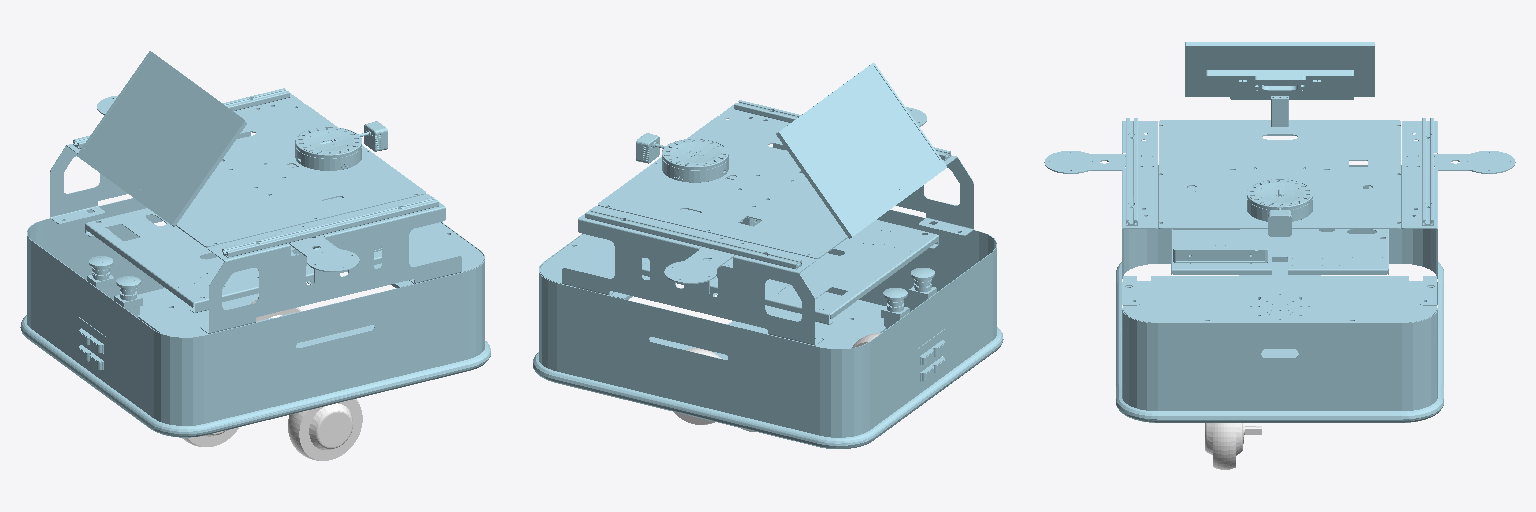
robot.urdf — lucsys_lse550_4wd:
<?xml version="1.0" encoding="utf-8"?>
<robot name="lucsys_lse550_4wd">
  <link name="base_link">
    <inertial>
      <origin xyz="-0.0128421829279015 -0.0198593937870083 0.00472064301055347" rpy="0 0 0" />
      <mass value="0.619760484843179" />
      <inertia ixx="0.00049908549476667" ixy="-1.7170206624065E-06" ixz="-4.24523881219841E-07" iyy="0.000746458274197243" iyz="-7.41976515459759E-07" izz="0.00114198658204837" />
    </inertial>
    <visual>
      <origin xyz="0 0 0" rpy="0 0 0" />
      <geometry>
        <mesh filename="package://lucsys_lse550_description/meshes/lse550_4wd/base_link.STL" />
      </geometry>
      <material name="lucsys_material_0">
        <color rgba="0.741176470588235 0.901960784313726 0.956862745098039 1" />
      </material>
    </visual>
    <collision>
      <origin xyz="0 0 0" rpy="0 0 0" />
      <geometry>
        <mesh filename="package://lucsys_lse550_description/meshes/lse550_4wd/base_link.STL" />
      </geometry>
    </collision>
  </link>
  <link name="lf_wheel_link">
    <inertial>
      <origin xyz="-1.27712550672052E-07 -0.000325096094343197 2.97668804279116E-07" rpy="0 0 0" />
      <mass value="0.0420381277202372" />
      <inertia ixx="1.72190960888397E-05" ixy="2.03639273675061E-09" ixz="2.4149299899044E-09" iyy="2.97212421151102E-05" iyz="-2.15428671658865E-11" izz="1.72364765737453E-05" />
    </inertial>
    <visual>
      <origin xyz="0 0 0" rpy="0 0 0" />
      <geometry>
        <mesh filename="package://lucsys_lse550_description/meshes/lse550_4wd/lf_wheel_link.STL" />
      </geometry>
      <material name="lucsys_material_1">
        <color rgba="1 1 1 1" />
      </material>
    </visual>
    <collision>
      <origin xyz="0 0 0" rpy="0 0 0" />
      <geometry>
        <mesh filename="package://lucsys_lse550_description/meshes/lse550_4wd/lf_wheel_link.STL" />
      </geometry>
    </collision>
  </link>
  <joint name="lf_wheel_joint" type="continuous">
    <origin xyz="0.0788866867829701 0.090902092708038 -0.0363" rpy="0 0 0" />
    <parent link="base_link" />
    <child link="lf_wheel_link" />
    <axis xyz="0 1 0" />
  </joint>
  <link name="lb_wheel_link">
    <inertial>
      <origin xyz="-1.28150099226731E-07 -0.000325096043508583 2.97625719625216E-07" rpy="0 0 0" />
      <mass value="0.0420381286687321" />
      <inertia ixx="1.72190959347134E-05" ixy="2.03643074352543E-09" ixz="2.41484184900578E-09" iyy="2.97212425394595E-05" iyz="-2.15391461481771E-11" izz="1.72364771579999E-05" />
    </inertial>
    <visual>
      <origin xyz="0 0 0" rpy="0 0 0" />
      <geometry>
        <mesh filename="package://lucsys_lse550_description/meshes/lse550_4wd/lb_wheel_link.STL" />
      </geometry>
      <material name="lucsys_material_2">
        <color rgba="1 1 1 1" />
      </material>
    </visual>
    <collision>
      <origin xyz="0 0 0" rpy="0 0 0" />
      <geometry>
        <mesh filename="package://lucsys_lse550_description/meshes/lse550_4wd/lb_wheel_link.STL" />
      </geometry>
    </collision>
  </link>
  <joint name="lb_wheel_joint" type="continuous">
    <origin xyz="-0.0930133132170299 0.0909020927080386 -0.0363" rpy="0 0 0" />
    <parent link="base_link" />
    <child link="lb_wheel_link" />
    <axis xyz="0 1 0" />
  </joint>
  <link name="rb_wheel_link">
    <inertial>
      <origin xyz="1.28149403894051E-07 0.000325096047440132 2.97624308309707E-07" rpy="0 0 0" />
      <mass value="0.0420381286421594" />
      <inertia ixx="1.72190962340715E-05" ixy="2.03640106869117E-09" ixz="-2.41477994262437E-09" iyy="2.97212428073701E-05" iyz="2.15356782895359E-11" izz="1.72364771452533E-05" />
    </inertial>
    <visual>
      <origin xyz="0 0 0" rpy="0 0 0" />
      <geometry>
        <mesh filename="package://lucsys_lse550_description/meshes/lse550_4wd/rb_wheel_link.STL" />
      </geometry>
      <material name="lucsys_material_3">
        <color rgba="1 1 1 1" />
      </material>
    </visual>
    <collision>
      <origin xyz="0 0 0" rpy="0 0 0" />
      <geometry>
        <mesh filename="package://lucsys_lse550_description/meshes/lse550_4wd/rb_wheel_link.STL" />
      </geometry>
    </collision>
  </link>
  <joint name="rb_wheel_joint" type="continuous">
    <origin xyz="-0.0930053132170305 -0.0907239072919614 -0.0363" rpy="0 0 0" />
    <parent link="base_link" />
    <child link="rb_wheel_link" />
    <axis xyz="0 1 0" />
  </joint>
  <link name="rf_wheel_link">
    <inertial>
      <origin xyz="1.27697581011558E-07 0.000325096090387209 2.97695706086287E-07" rpy="0 0 0" />
      <mass value="0.0420381277503723" />
      <inertia ixx="1.7219096206293E-05" ixy="2.03637766318229E-09" ixz="-2.41488182670862E-09" iyy="2.97212422221003E-05" iyz="2.153998885685E-11" izz="1.72364765727325E-05" />
    </inertial>
    <visual>
      <origin xyz="0 0 0" rpy="0 0 0" />
      <geometry>
        <mesh filename="package://lucsys_lse550_description/meshes/lse550_4wd/rf_wheel_link.STL" />
      </geometry>
      <material name="lucsys_material_4">
        <color rgba="1 1 1 1" />
      </material>
    </visual>
    <collision>
      <origin xyz="0 0 0" rpy="0 0 0" />
      <geometry>
        <mesh filename="package://lucsys_lse550_description/meshes/lse550_4wd/rf_wheel_link.STL" />
      </geometry>
    </collision>
  </link>
  <joint name="rf_wheel_joint" type="continuous">
    <origin xyz="0.0788946867829695 -0.090723907291962 -0.0363" rpy="0 0 0" />
    <parent link="base_link" />
    <child link="rf_wheel_link" />
    <axis xyz="0 1 0" />
  </joint>
  <link name="laser_link">
    <inertial>
      <origin xyz="0.00196458631046099 -3.57895428399795E-06 0.00189816836722938" rpy="0 0 0" />
      <mass value="0.0477519163775583" />
      <inertia ixx="3.38461999766101E-05" ixy="-2.19897141950282E-09" ixz="1.07118468648131E-06" iyy="3.94150415881323E-05" iyz="6.83978165807776E-10" izz="5.60787042136426E-05" />
    </inertial>
    <visual>
      <origin xyz="0 0 0" rpy="0 0 0" />
      <geometry>
        <mesh filename="package://lucsys_lse550_description/meshes/lse550_4wd/laser.STL" />
      </geometry>
      <material name="lucsys_material_5">
        <color rgba="0.376470588235294 0.376470588235294 0.376470588235294 1" />
      </material>
    </visual>
    <collision>
      <origin xyz="0 0 0" rpy="0 0 0" />
      <geometry>
        <mesh filename="package://lucsys_lse550_description/meshes/lse550_4wd/laser.STL" />
      </geometry>
    </collision>
  </link>
  <joint name="laser_joint" type="fixed">
    <origin xyz="0.0316310367407428 9.05810809801877E-05 0.09292418374143" rpy="0 0 3.14159265358979" />
    <parent link="base_link" />
    <child link="laser_link" />
    <axis xyz="0 0 0" />
  </joint>
  <link name="controller_link">
    <inertial>
      <origin xyz="-0.0178772421800459 0.0389174701067245 0.0213653101693057" rpy="0 0 0" />
      <mass value="0.0391683061674007" />
      <inertia ixx="2.20183096868336E-05" ixy="1.2570811872774E-06" ixz="1.53420711428651E-09" iyy="2.40630534171015E-05" iyz="2.27786586281681E-07" izz="4.51084285172614E-05" />
    </inertial>
    <visual>
      <origin xyz="0 0 0" rpy="0 0 0" />
      <geometry>
        <mesh filename="package://lucsys_lse550_description/meshes/lse550_4wd/controller_link.STL" />
      </geometry>
      <material name="lucsys_material_6">
        <color rgba="1 1 1 1" />
      </material>
    </visual>
    <collision>
      <origin xyz="0 0 0" rpy="0 0 0" />
      <geometry>
        <mesh filename="package://lucsys_lse550_description/meshes/lse550_4wd/controller_link.STL" />
      </geometry>
    </collision>
  </link>
  <joint name="controller_joint" type="fixed">
    <origin xyz="-0.0556343132168706 -0.0407821141826353 0.0519999999999999" rpy="0 0 0" />
    <parent link="base_link" />
    <child link="controller_link" />
    <axis xyz="0 0 0" />
  </joint>
  <link name="camera_link">
    <inertial>
      <origin xyz="3.50190324967248E-07 9.10362268407238E-08 1.07624234177428E-07" rpy="0 0 0" />
      <mass value="0.0559842512080236" />
      <inertia ixx="0.000130810959339227" ixy="1.20255128206473E-07" ixz="1.62335437080084E-06" iyy="1.91148634967935E-05" iyz="-2.80016755793737E-08" izz="0.000131387469523042" />
    </inertial>
    <visual>
      <origin xyz="0 0 0" rpy="0 0 0" />
      <geometry>
        <mesh filename="package://lucsys_lse550_description/meshes/lse550_4wd/camera_link.STL" />
      </geometry>
      <material name="lucsys_material_7">
        <color rgba="1 1 1 1" />
      </material>
    </visual>
    <collision>
      <origin xyz="0 0 0" rpy="0 0 0" />
      <geometry>
        <mesh filename="package://lucsys_lse550_description/meshes/lse550_4wd/camera_link.STL" />
      </geometry>
    </collision>
  </link>
  <joint name="camera_joint" type="fixed">
    <origin xyz="0.10709468678297 0.000317092708037946 0.076704" rpy="0 0 0" />
    <parent link="base_link" />
    <child link="camera_link" />
    <axis xyz="0 0 0" />
  </joint>
</robot>

--- What the picture shows (computed from the rendered views, not written in the file) ---
Views: 3 orthographic renders of the robot side by side, from view 1: azimuth 30°, elevation 25°; view 2: azimuth 150°, elevation 25°; view 3: azimuth 270°, elevation 25°.
Model lucsys_lse550_4wd with 8 links and 7 joints (4 continuous, 3 fixed), rooted at base_link, posed all joints at 0.
Visible links, largest first — view 1: base_link, rf_wheel_link; view 2: base_link; view 3: base_link, rf_wheel_link.
Boxes of the visible links, x1,y1,x2,y2 form: base_link: (20,51,490,437); rf_wheel_link: (288,399,362,460); base_link: (533,63,1003,448); base_link: (1044,42,1515,422); rf_wheel_link: (1205,423,1261,469).
Size in the robot's own frame: 0.64 by 0.7764 by 0.6837 metres.
Meshes: 8 distinct files referenced, 4 mesh visuals loaded (4 binary STL); not drawn: 4 (reference not matched to a file when rendering).
